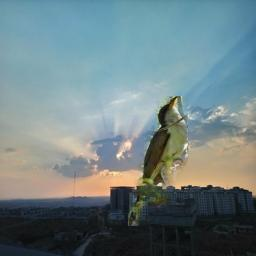Cuckoo: (128, 96, 188, 226)
